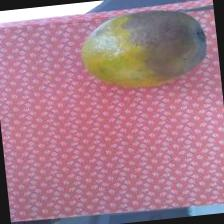Orange Rotten: (72, 0, 216, 99)
